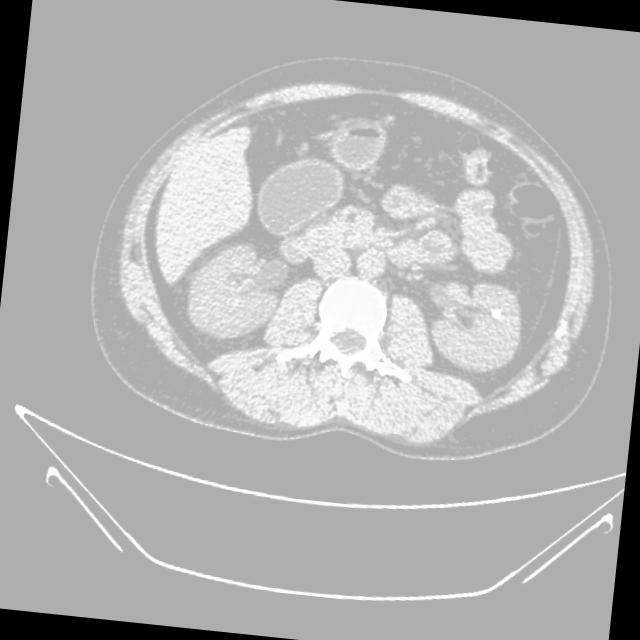STONE: (218, 73, 540, 326)
